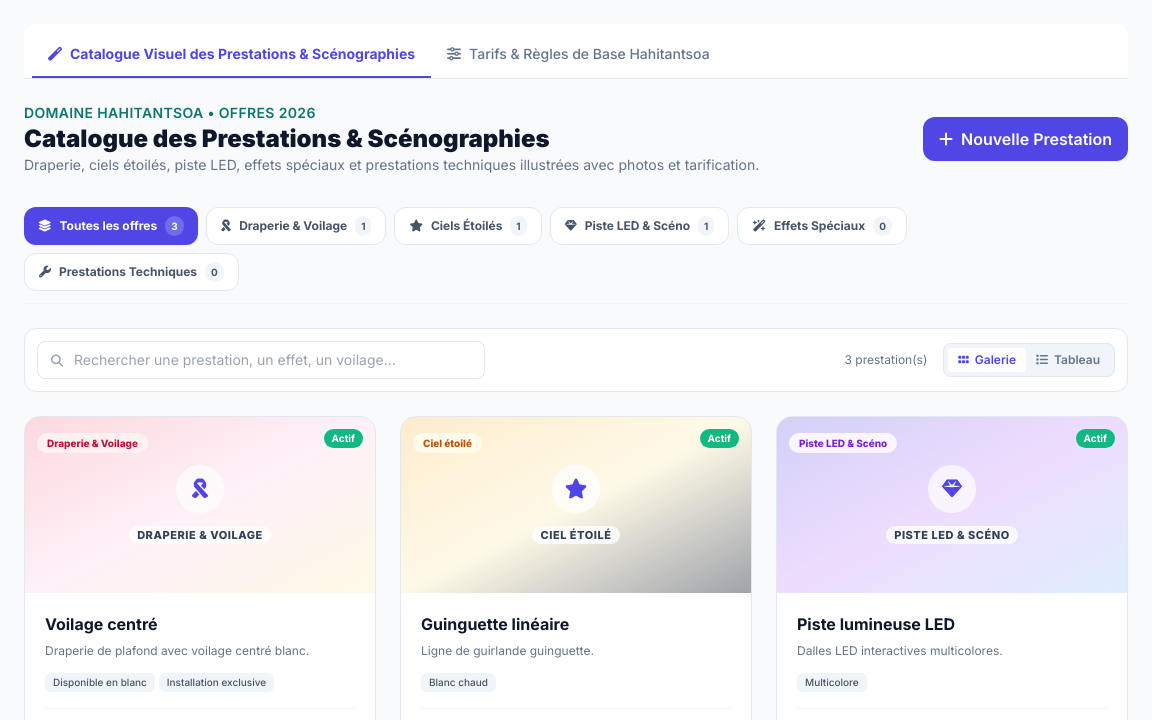
Test: ServicesPage › filters services by category when clicking category tab
The image size is (1152, 720).
Check: the heading "Voilage centré" is shown, box [45, 614, 158, 634]
Note: Click on Drapery filter
Click the button "Draperie & Voilage 1".
click(296, 226)  # box [206, 207, 386, 245]
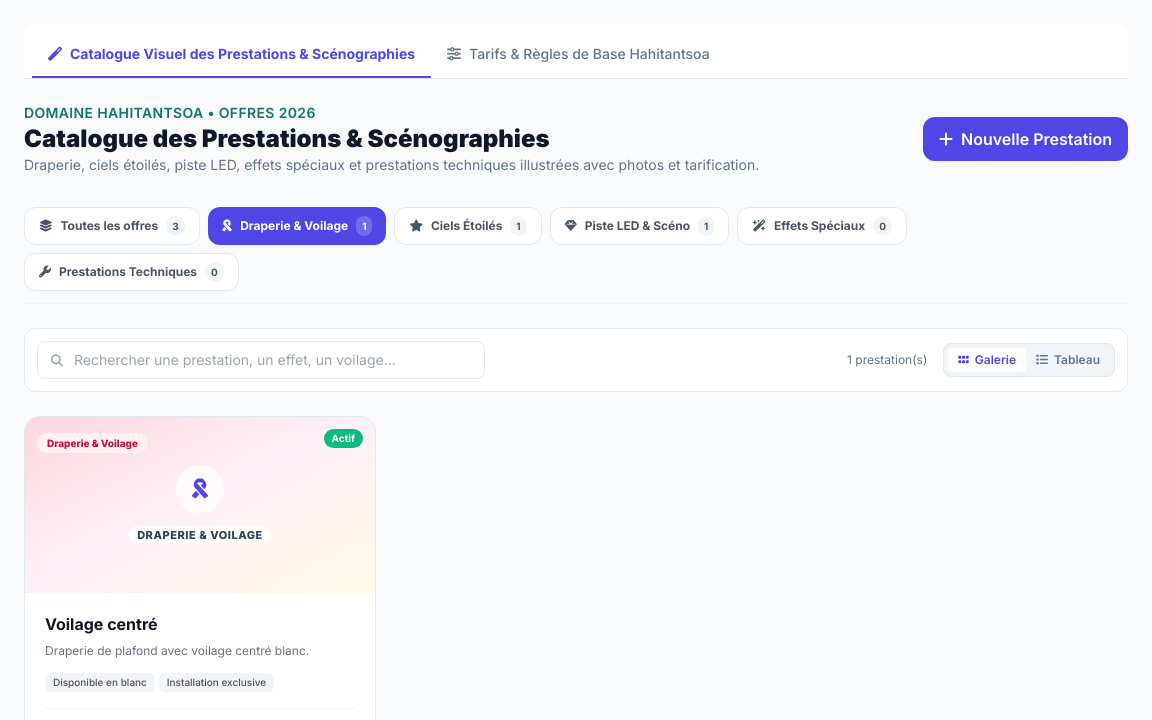
Check: the heading "Voilage centré" is shown, box [45, 614, 158, 634]
Check: the heading "Guinguette linéaire" is gone
Check: the heading "Piste lumineuse LED" is gone
